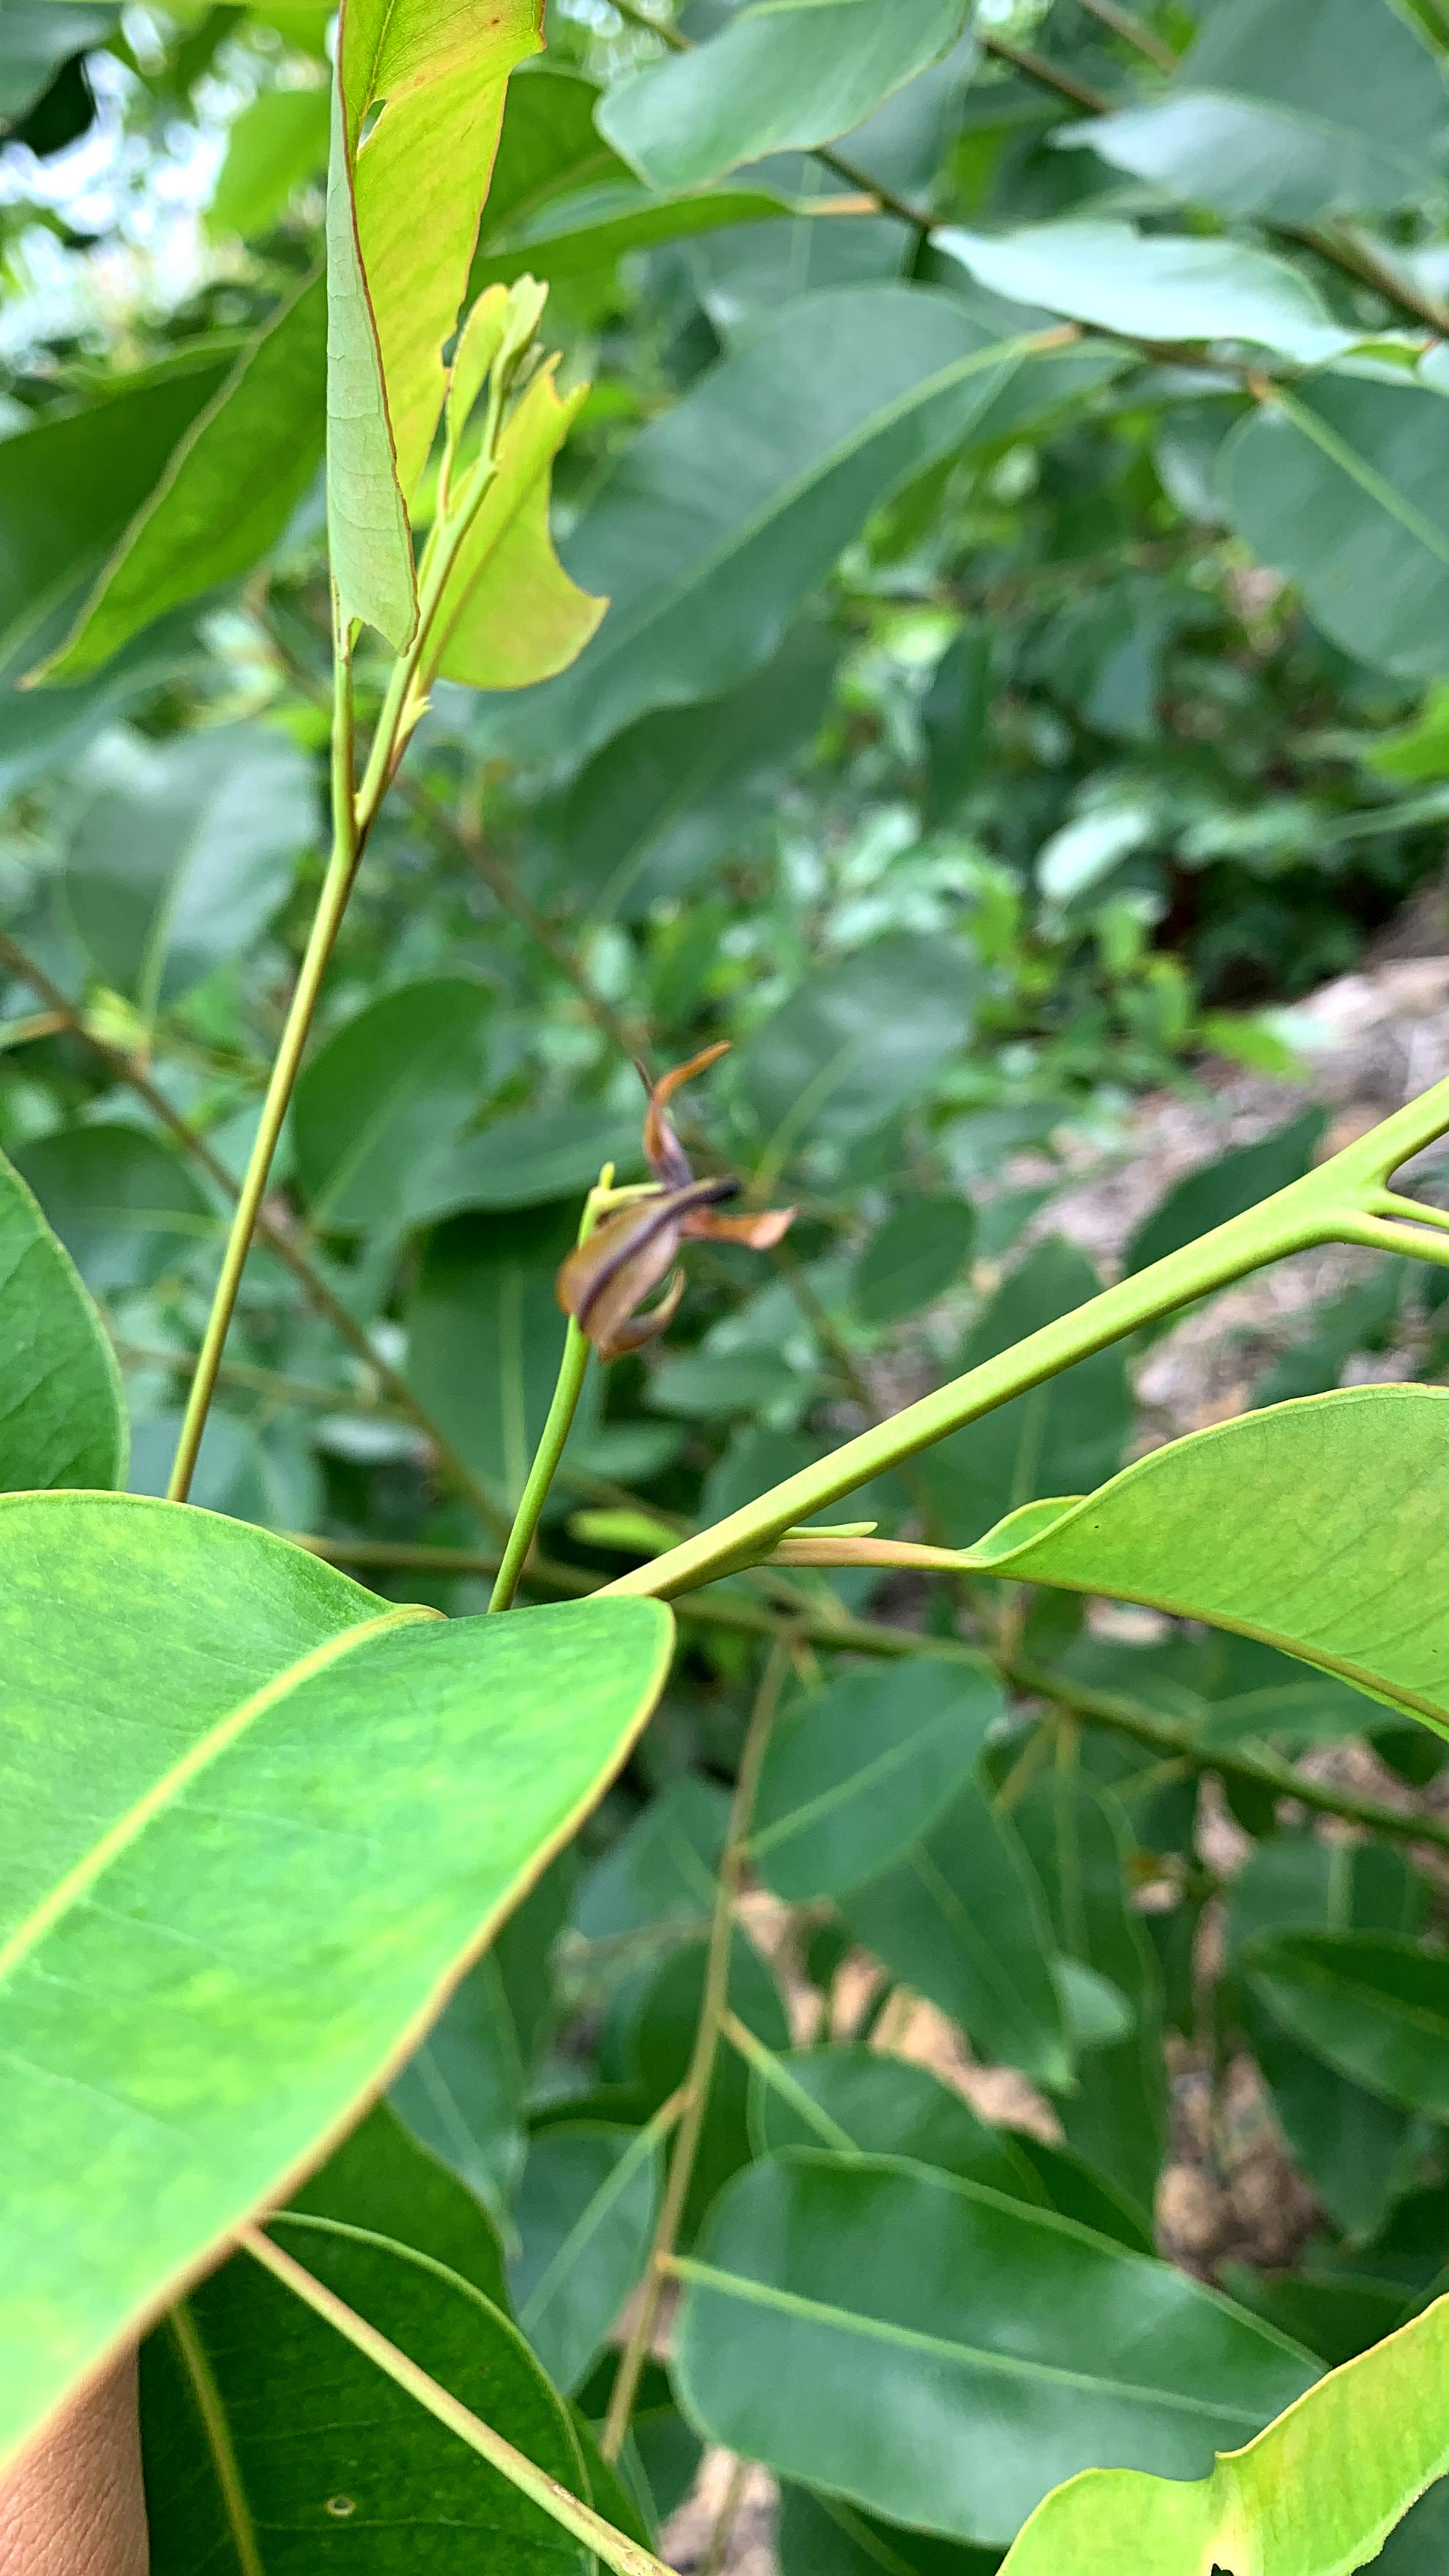Helopeltis-Withered Sprout: (502, 1004, 834, 1397)
